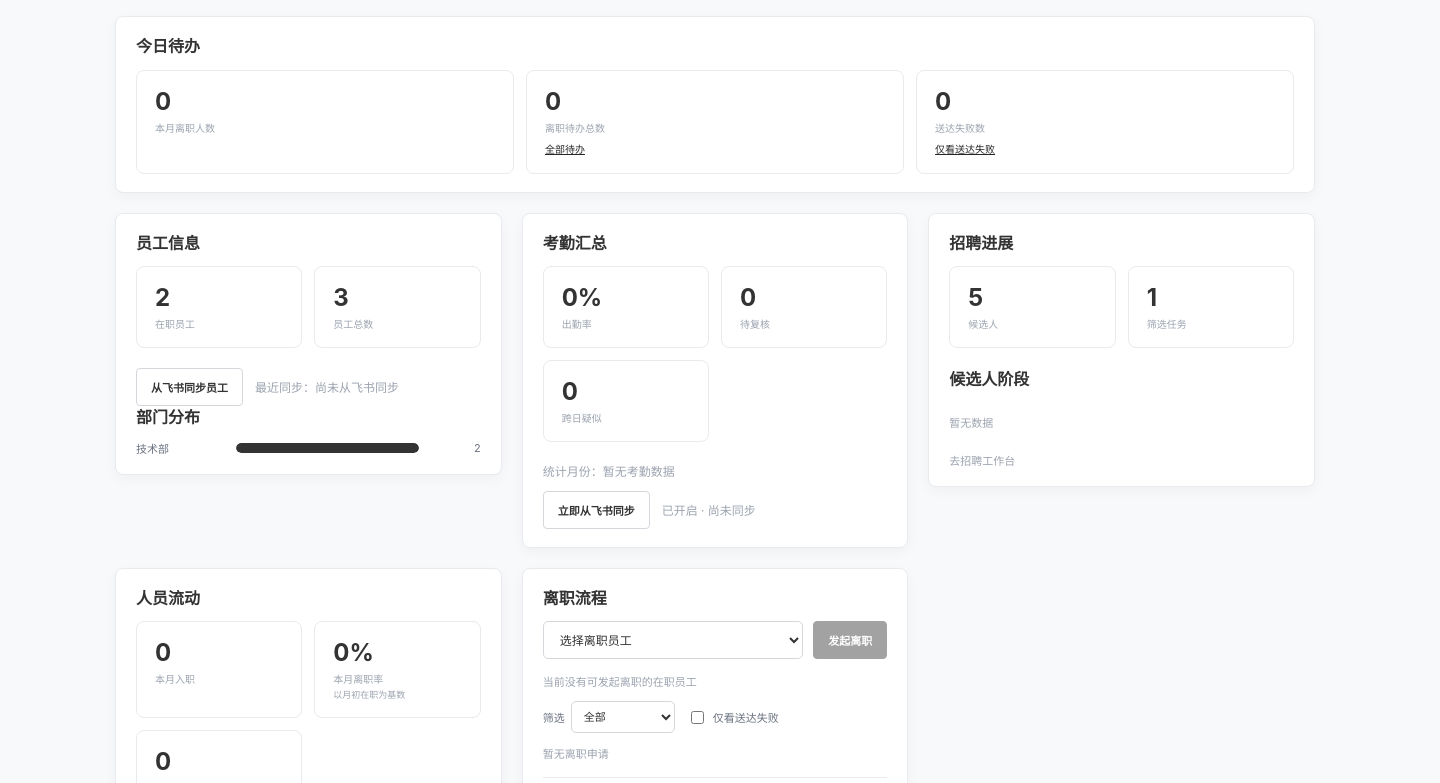
Test case: 人事中台飞书员工同步 › 点击按钮发起 POST、刷新看板并提示同步结果
This screenshot has width=1440, height=783.
Click the button "从飞书同步员工": [190, 387] box [136,368,243,406]
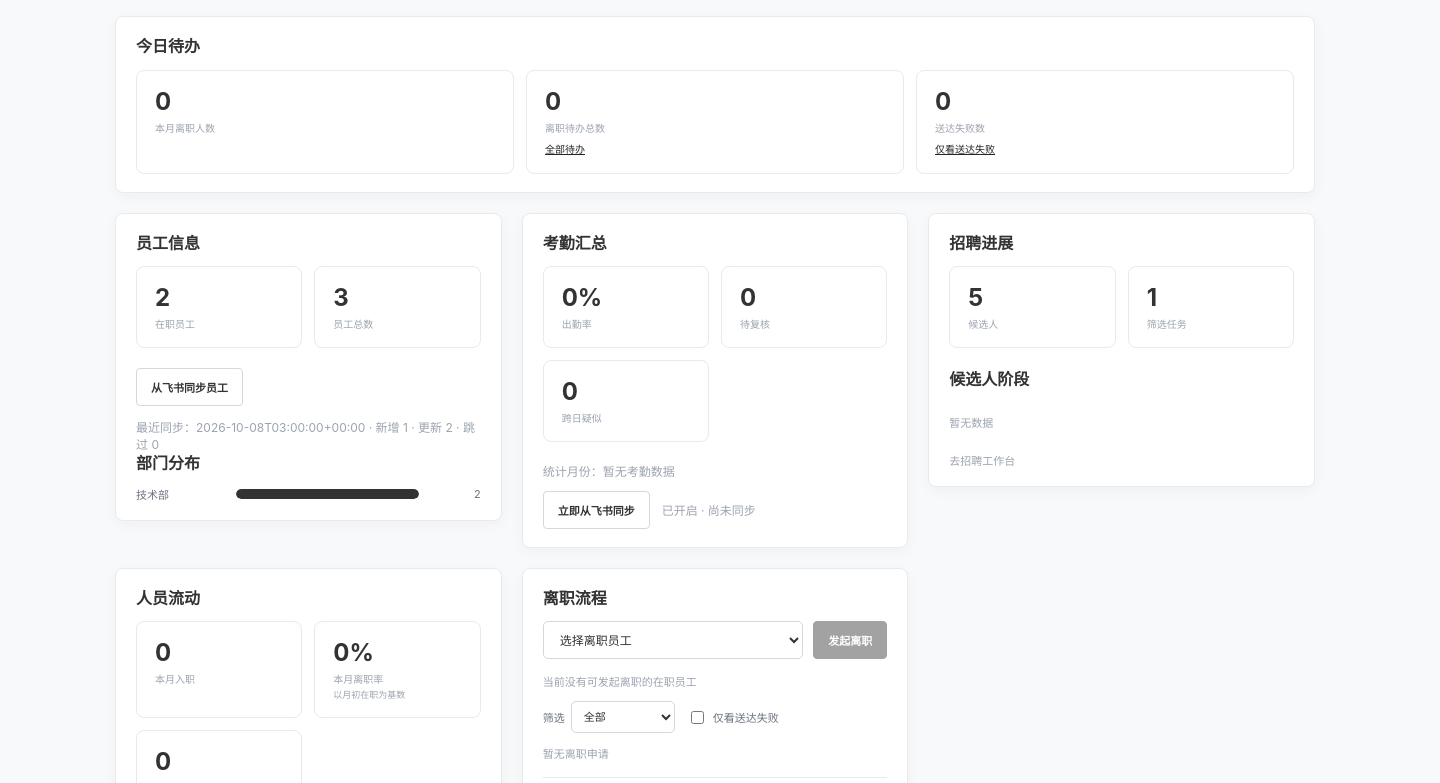
Expected: the text with class "hr-period" shows "2026-10-08T03:00:00+00:00 · 新增 1 · 更新 2 · 跳过 0", [136,420,475,452]
